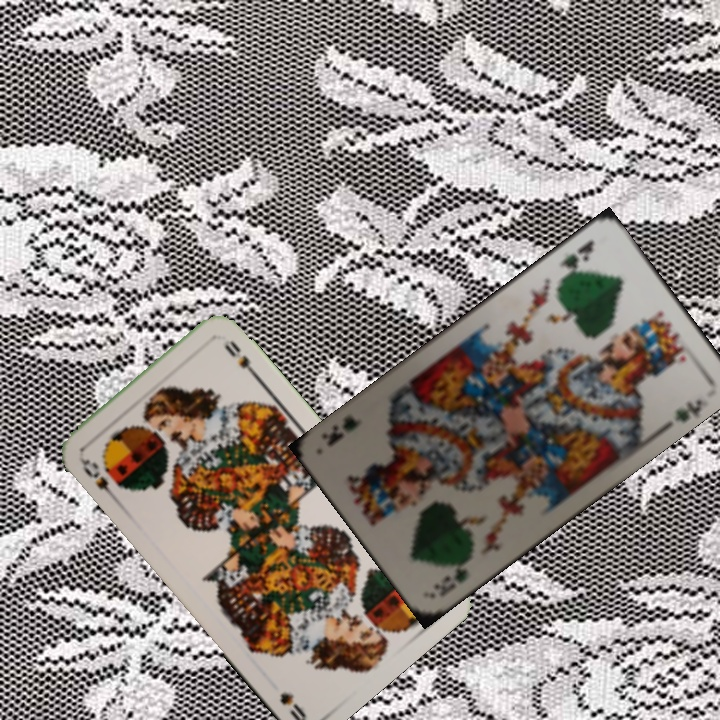GK: (555, 236, 597, 283), (429, 562, 471, 600)
SO: (75, 453, 120, 502)
